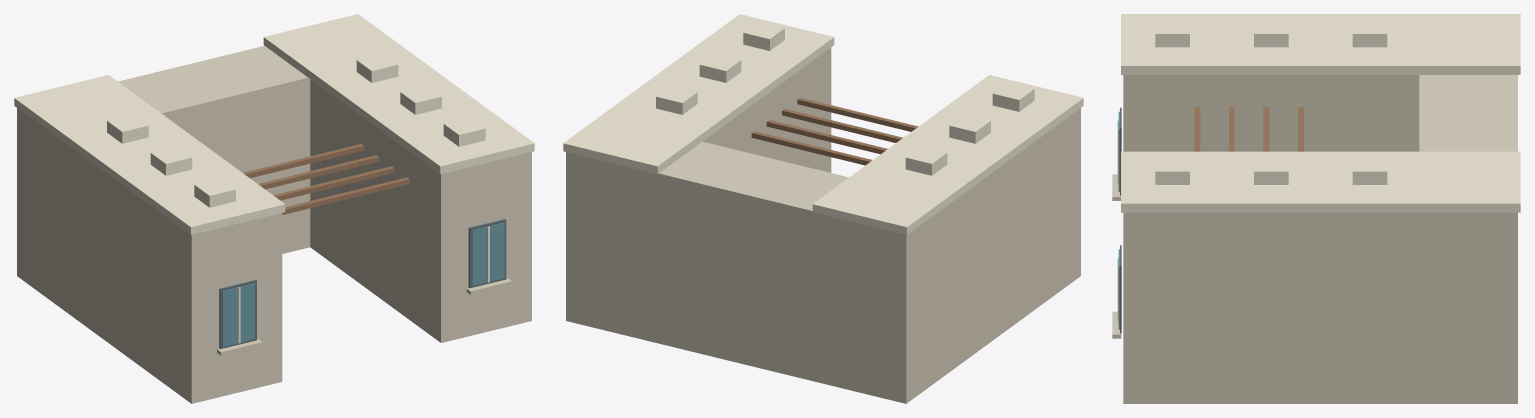
File: courtyard.glb
3 views of the same model, side by side, from view 1: azimuth 30°, elevation 25°; view 2: azimuth 150°, elevation 25°; view 3: azimuth 270°, elevation 25° (orthographic). The views are drawn at different scales.
Bounding box in the file's own units: 9.1 × 4.8 × 8.27.
